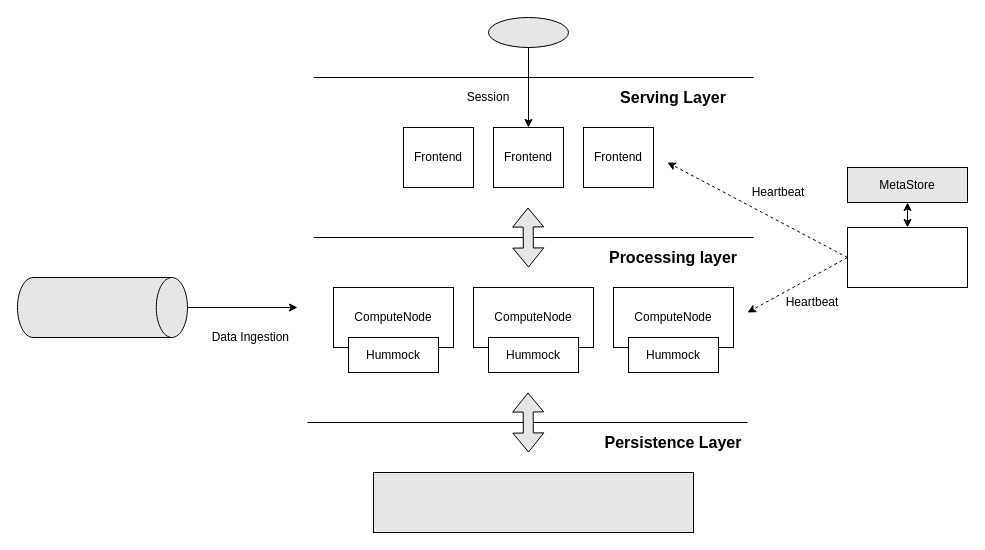
Some shapes in this 985 by 550 pixel diagram are drawn without their labels. The centre of each missing label's shape, as x and y in pixels:
"Kafka" belongs at point (102, 307).
"MetaServer" belongs at point (907, 257).
"psql" belongs at point (528, 32).
"S3" belongs at point (533, 502).
